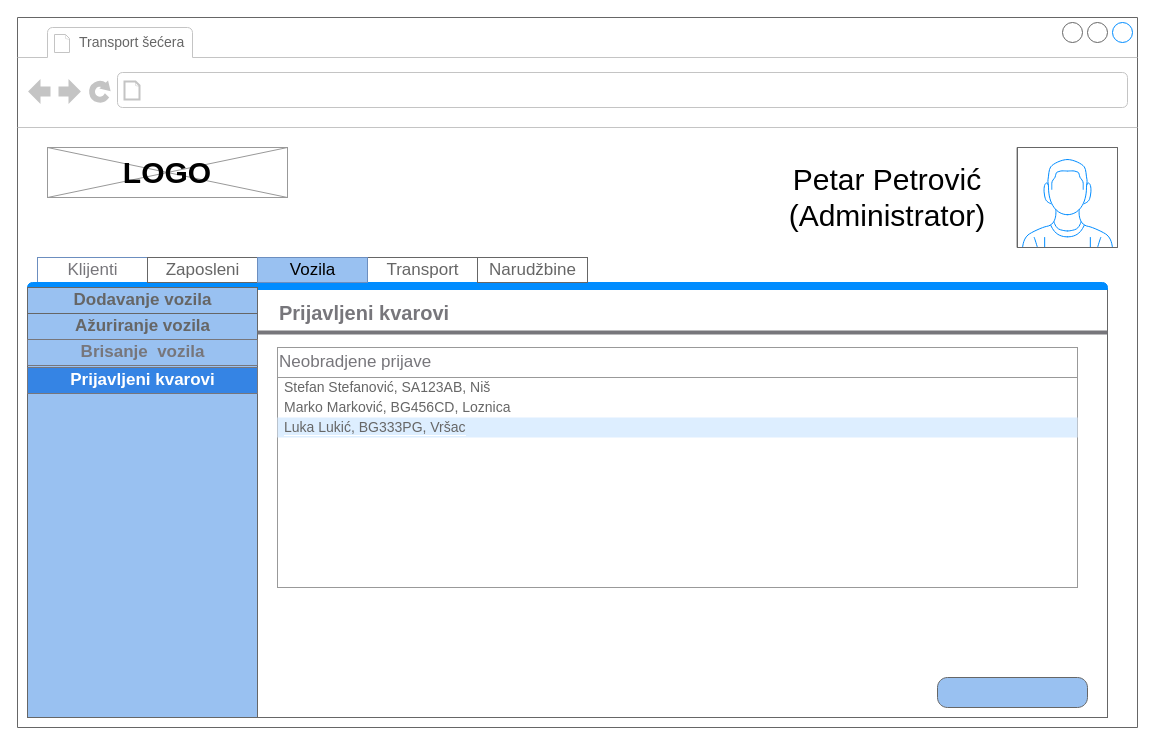
Some shapes in this 1155 by 745 pixel diagram are drawn without their labels. Here are the shapes that lost their labels. From the top down, the box of each, then its label:
(146, 76, 598, 104): https://www.transportsecera.com/admin/vozila
(936, 676, 1088, 708): Detalji
